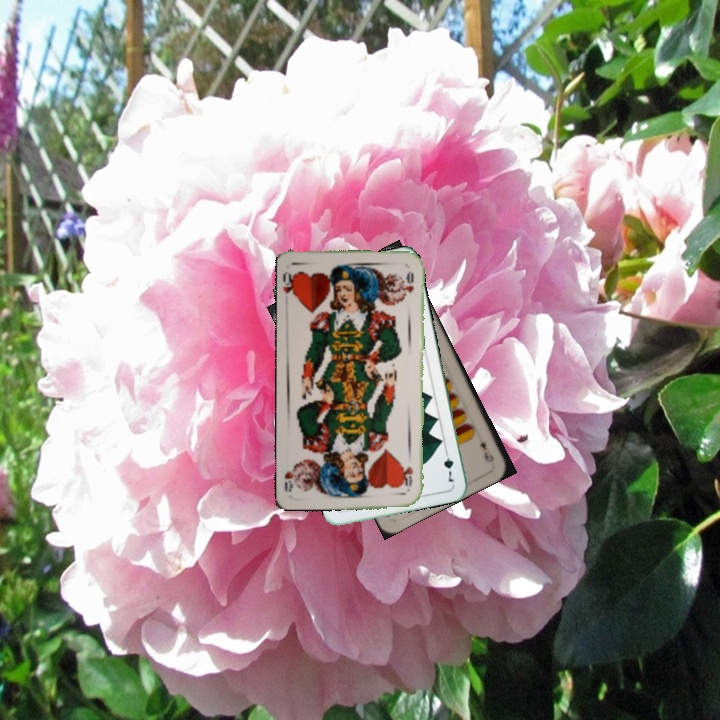E9: (476, 437, 496, 465)
G7: (439, 445, 457, 485)
HO: (280, 268, 299, 302), (400, 462, 416, 489)
